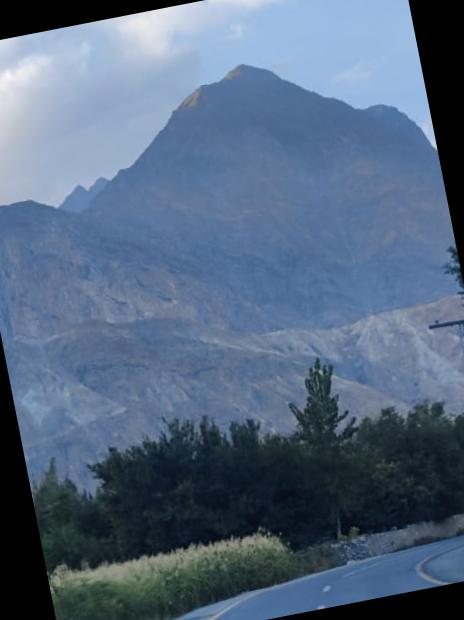right_turn: (115, 470, 464, 620)
